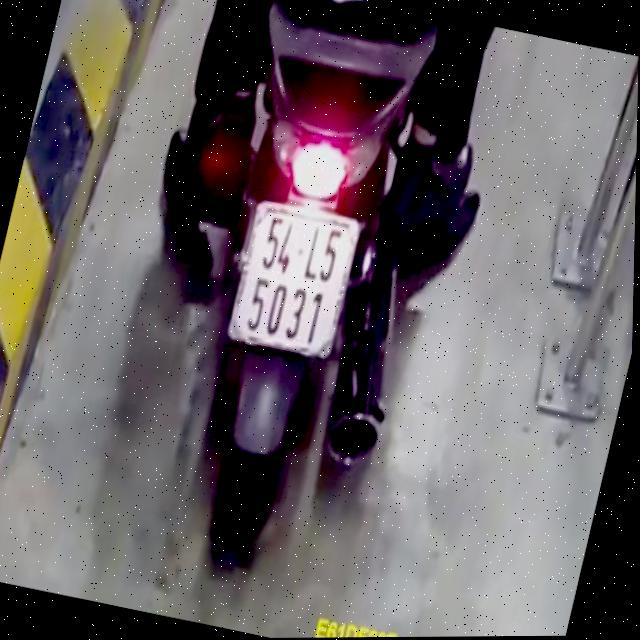motorcycle: (89, 0, 500, 605)
plate: (216, 189, 370, 369)
